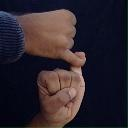hand: (0, 8, 87, 67), (36, 52, 86, 128)
